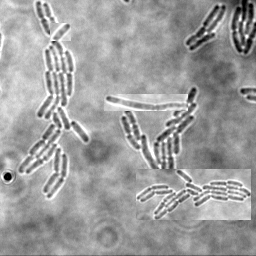Dividing: (104, 94, 188, 111), (34, 1, 52, 37), (41, 3, 57, 33)
Microcolony: (18, 40, 89, 199), (120, 87, 197, 181), (136, 169, 251, 220), (184, 5, 226, 52), (230, 1, 255, 56)
Rod: (50, 23, 71, 41)
